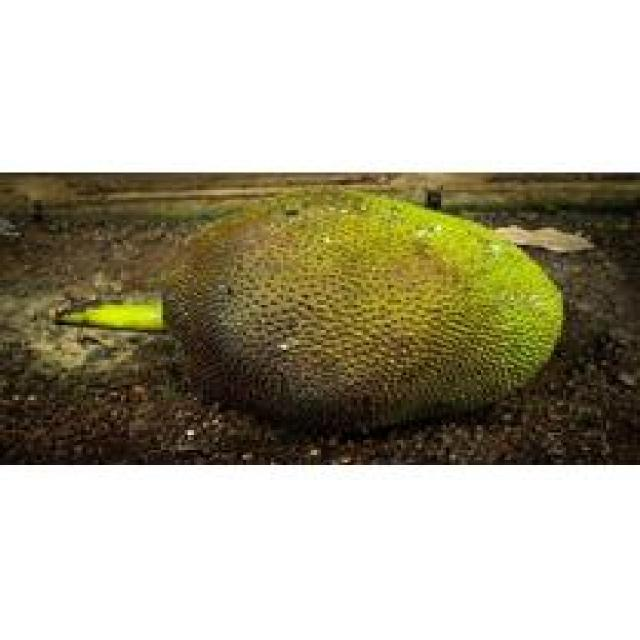Fruit: (166, 178, 588, 450)
